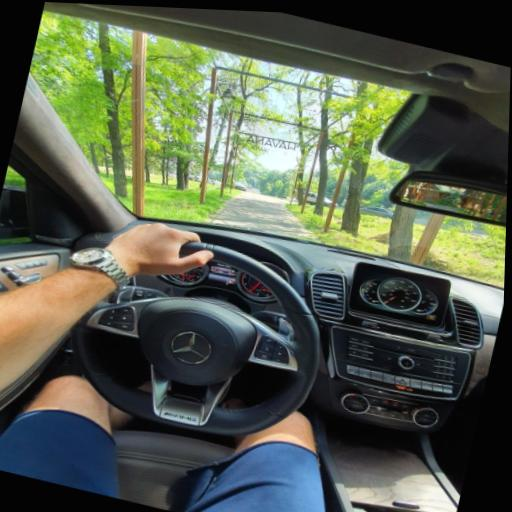Hands-on-the-Wheel: (60, 185, 233, 304)
